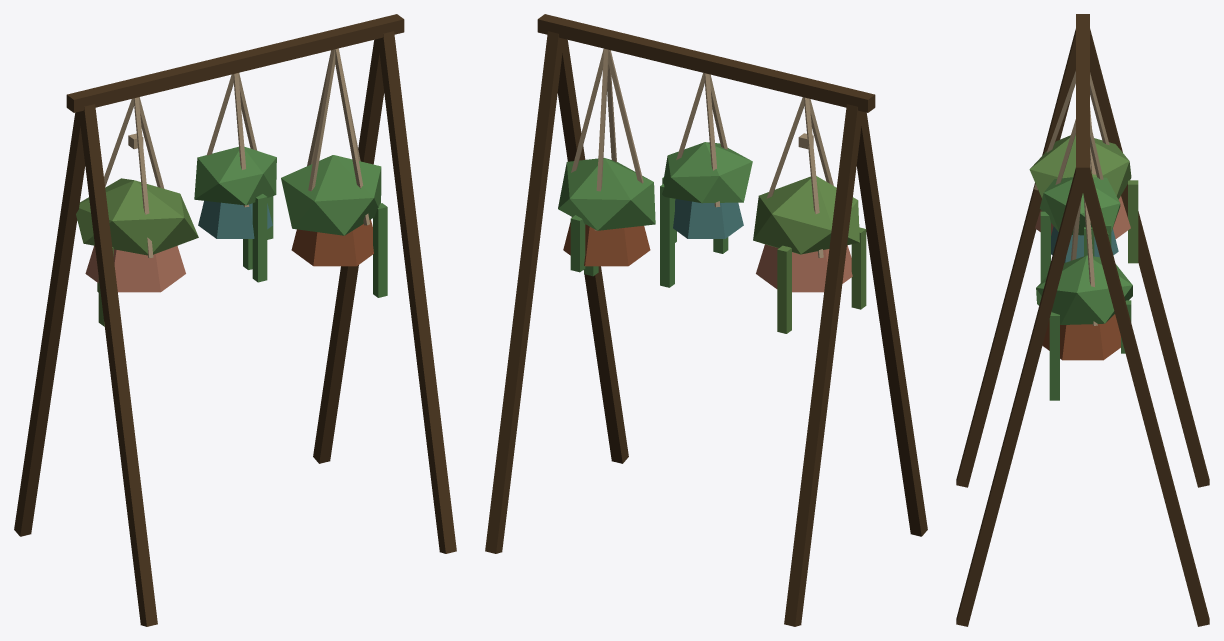
File: plant-hanger-06.glb
The picture shows the model from 3 angles, left to right: view 1: azimuth 30°, elevation 25°; view 2: azimuth 150°, elevation 25°; view 3: azimuth 270°, elevation 25°; orthographic projection. The views are drawn at different scales.
Visible parts, largest first — view 1: plant_hanger_06; view 2: plant_hanger_06; view 3: plant_hanger_06.
Part boxes in pixels (x1,y1,x2,y2): plant_hanger_06: (14,14,456,626); plant_hanger_06: (485,14,927,626); plant_hanger_06: (956,14,1209,626).
Bounding box in the file's own units: 1.05 × 1.48 × 0.7339.
